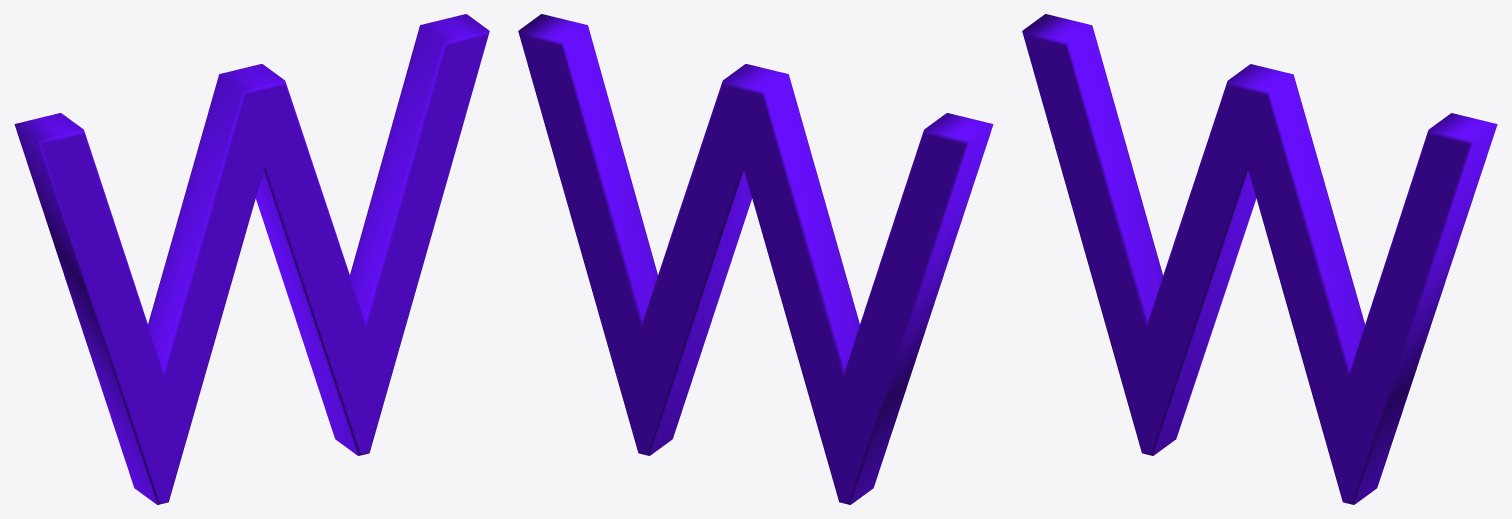
3 views of the same model, side by side, from view 1: azimuth 30°, elevation 25°; view 2: azimuth 150°, elevation 25°; view 3: azimuth 330°, elevation 25° (orthographic).
Visible parts, largest first — view 1: WW; view 2: WW; view 3: WW.
Boxes of the visible parts, <box> form: WW: <box>14,14,489,504</box>; WW: <box>518,14,993,504</box>; WW: <box>1022,14,1497,504</box>.
Size of the model in its own units: 0.6016 by 0.5 by 0.0594.
